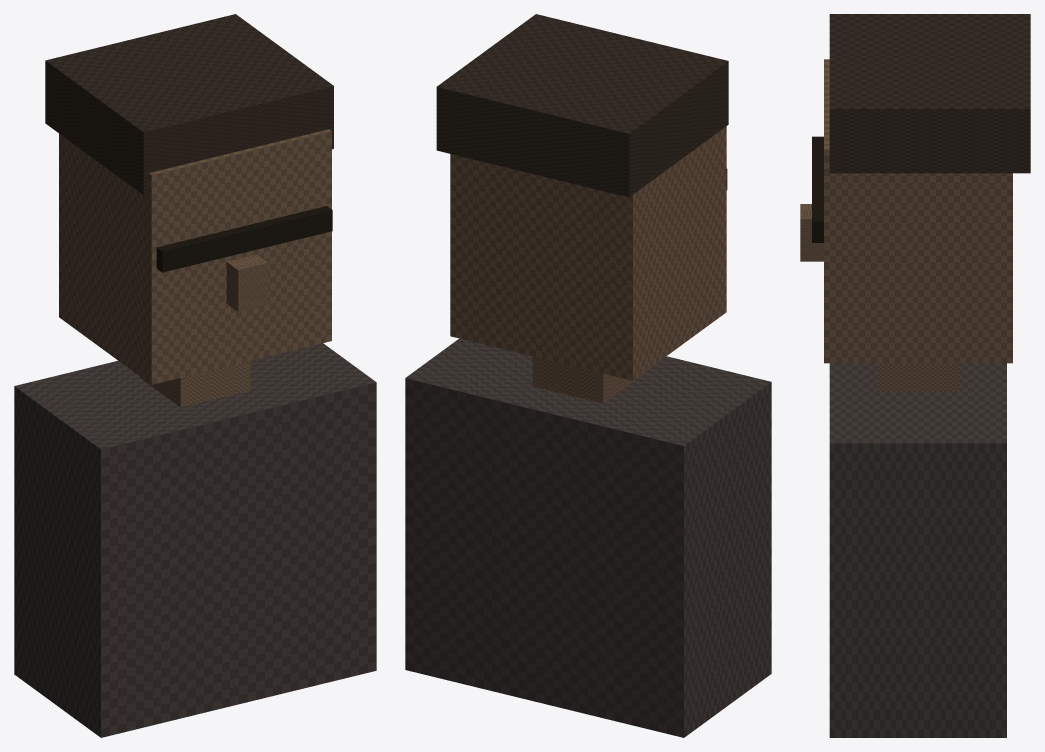
File: kyle_bust.glb
3 renders of one model, left to right at view 1: azimuth 30°, elevation 25°; view 2: azimuth 150°, elevation 25°; view 3: azimuth 270°, elevation 25°, orthographic. The views are drawn at different scales.
Parts seen in each view (by area): view 1: kyle_bust; view 2: kyle_bust; view 3: kyle_bust.
Part boxes in pixels (box(x1,y1,x2,y2)): kyle_bust: box(14, 14, 376, 737); kyle_bust: box(405, 14, 771, 737); kyle_bust: box(800, 14, 1030, 737).
Size of the model in its own units: 0.55 by 1.13 by 0.39.
1 material, 1 textured.
